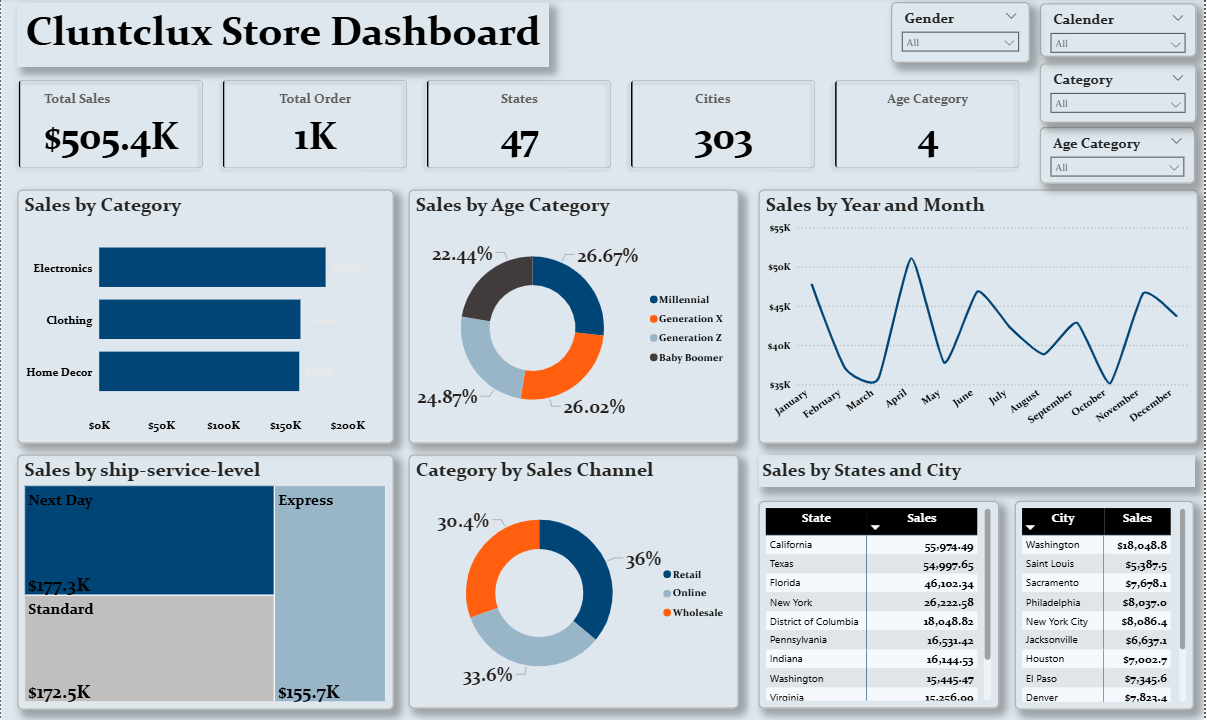

This screenshot's page, from the dashboard's own definition file:
{"tool":"powerbi","page":{"name":"Dashboard","canvas":[1580,950],"ordinal":0},"visuals":[{"type":"cardVisual","fields":{"Data":["working sheet.total_sales","working sheet.total_order","Count(working sheet.ship-state)","Count(working sheet.ship-city)","Count(working sheet.Age Category)"]},"box":[0,66,1364,202],"z":0},{"type":"lineChart","title":"Sales by Year and Month","fields":{"Category":["working sheet.Date.Variation.Date Hierarchy.Month"],"Y":["working sheet.total_sales"]},"box":[994.1,252.9,576.5,333.3],"z":1000},{"type":"barChart","title":"Sales by Category","fields":{"Category":["working sheet.Category"],"Y":["working sheet.total_sales"]},"box":[21.6,252.9,494.1,333.3],"z":2000},{"type":"textbox","box":[22,8,698,84],"z":3000},{"type":"donutChart","fields":{"Category":["working sheet.Age Category"],"Y":["working sheet.total_sales"]},"box":[535.3,252.9,433.3,333.3],"z":4000},{"type":"treemap","fields":{"Group":["working sheet.ship-service-level"],"Values":["working sheet.total_sales"]},"box":[21.6,600,494.1,335.3],"z":5000},{"type":"pivotTable","fields":{"Rows":["working sheet.ship-city"],"Values":["working sheet.total_sales"]},"box":[1331.4,660.8,235.3,274.5],"z":6000},{"type":"pivotTable","fields":{"Rows":["working sheet.ship-state"],"Values":["Sum(working sheet.Amount)"]},"box":[994.1,660.8,315.7,272.5],"z":7000},{"type":"donutChart","fields":{"Category":["working sheet.Status","working sheet.Sales Channel"],"Y":["CountNonNull(working sheet.Category)"]},"box":[535.3,600,433.3,333.3],"z":8000},{"type":"slicer","fields":{"Values":["working sheet.Age Category"]},"box":[1364.7,170.6,203.9,74.5],"z":9000},{"type":"slicer","fields":{"Values":["working sheet.Date.Variation.Date Hierarchy.Year","working sheet.Date.Variation.Date Hierarchy.Month","working sheet.Date.Variation.Date Hierarchy.Day"]},"box":[1364.7,7.8,205.9,70.6],"z":10000},{"type":"slicer","fields":{"Values":["working sheet.Category"]},"box":[1364.7,86.3,205.9,78.4],"z":11000},{"type":"slicer","fields":{"Values":["working sheet.Gender"]},"box":[1168.6,5.9,182.4,80.4],"z":12000},{"type":"textbox","box":[994.1,600,572.5,43.1],"z":14001}]}

Visuals, with their boxes in screenshot pixels (x1, y1, x2, y2), scaled from the page's 1580x950 canvas onto the 1207x720 screenshot:
cardVisual - working sheet.total_sales x working sheet.total_order: [x1=0, y1=50, x2=1042, y2=203]
"Sales by Year and Month" lineChart: [x1=759, y1=192, x2=1200, y2=444]
"Sales by Category" barChart: [x1=17, y1=192, x2=394, y2=444]
textbox: [x1=17, y1=6, x2=550, y2=70]
donutChart - working sheet.Age Category x working sheet.total_sales: [x1=409, y1=192, x2=740, y2=444]
treemap - working sheet.ship-service-level x working sheet.total_sales: [x1=17, y1=455, x2=394, y2=709]
pivotTable - working sheet.ship-city x working sheet.total_sales: [x1=1017, y1=501, x2=1197, y2=709]
pivotTable - working sheet.ship-state x Sum(working sheet.Amount): [x1=759, y1=501, x2=1001, y2=707]
donutChart - working sheet.Status x working sheet.Sales Channel: [x1=409, y1=455, x2=740, y2=707]
slicer - working sheet.Age Category: [x1=1043, y1=129, x2=1198, y2=186]
slicer - working sheet.Date.Variation.Date Hierarchy.Year x working sheet.Date.Variation.Date Hierarchy.Month: [x1=1043, y1=6, x2=1200, y2=59]
slicer - working sheet.Category: [x1=1043, y1=65, x2=1200, y2=125]
slicer - working sheet.Gender: [x1=893, y1=4, x2=1032, y2=65]
textbox: [x1=759, y1=455, x2=1197, y2=487]
